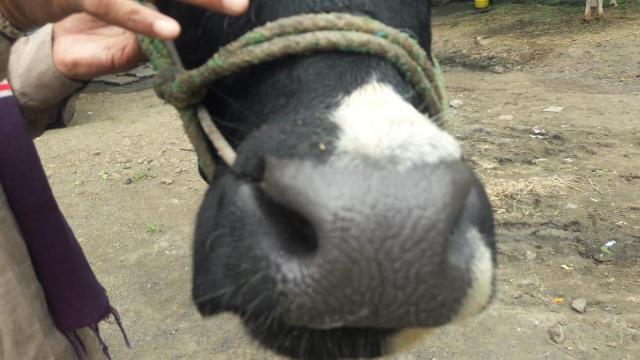Muzzle: (293, 159, 461, 309)
